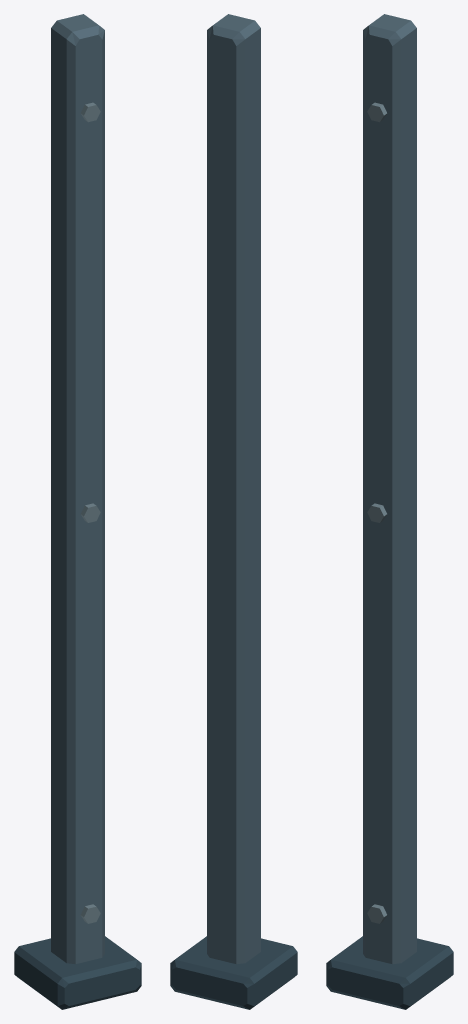
Rendered from 03_Upright_240.obj.
3 views of the same model, side by side, from view 1: azimuth 30°, elevation 25°; view 2: azimuth 150°, elevation 25°; view 3: azimuth 330°, elevation 25° (orthographic).
Size of the model in its own units: 0.22 by 2.4 by 0.22.
